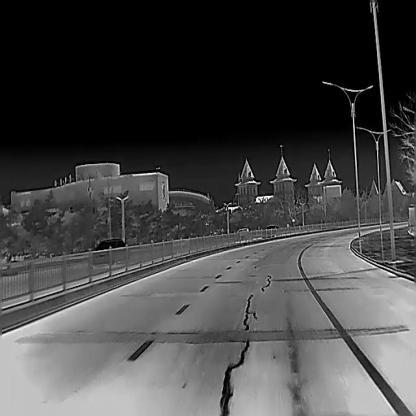car: (91, 237, 128, 265), (262, 225, 279, 238), (236, 228, 248, 242)
